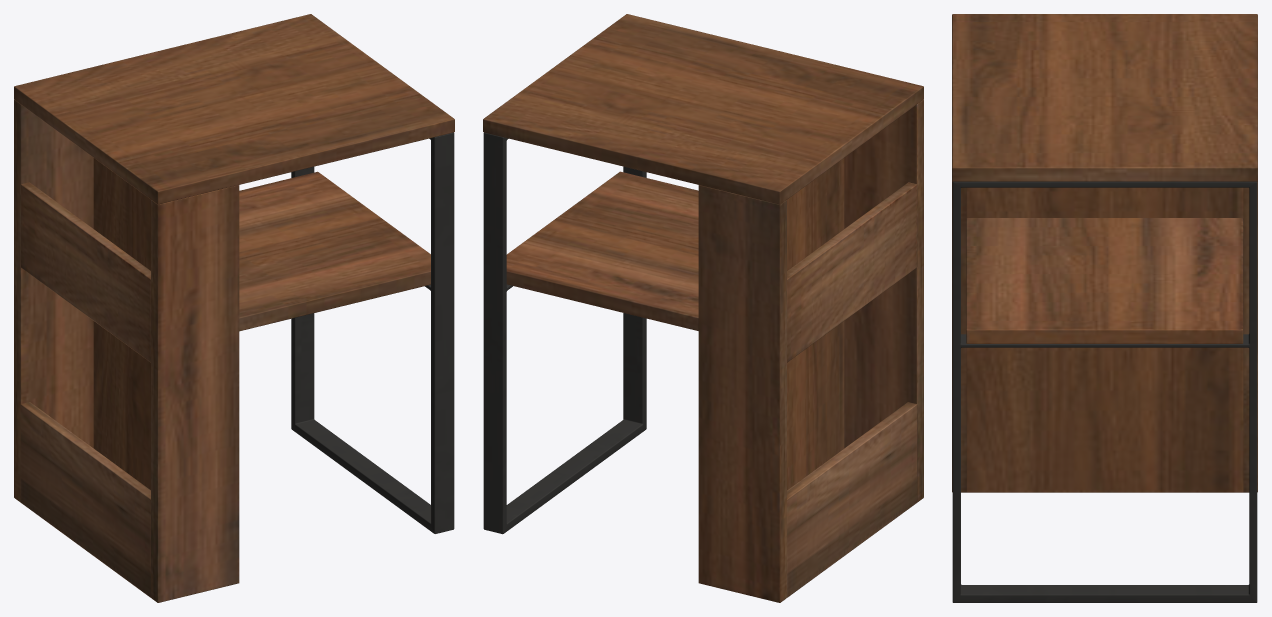
The picture shows the model from 3 angles, left to right: view 1: azimuth 30°, elevation 25°; view 2: azimuth 150°, elevation 25°; view 3: azimuth 270°, elevation 25°; orthographic projection. The views are drawn at different scales.
Parts seen in each view (by area): view 1: RootNode; view 2: RootNode; view 3: RootNode.
Part boxes in pixels (x1=…): RootNode: x1=14, y1=14, x2=454, y2=602; RootNode: x1=483, y1=14, x2=923, y2=602; RootNode: x1=952, y1=14, x2=1257, y2=602.
Size of the model in its own units: 0.7864 by 1.04 by 0.66.
1 material, 1 textured.
